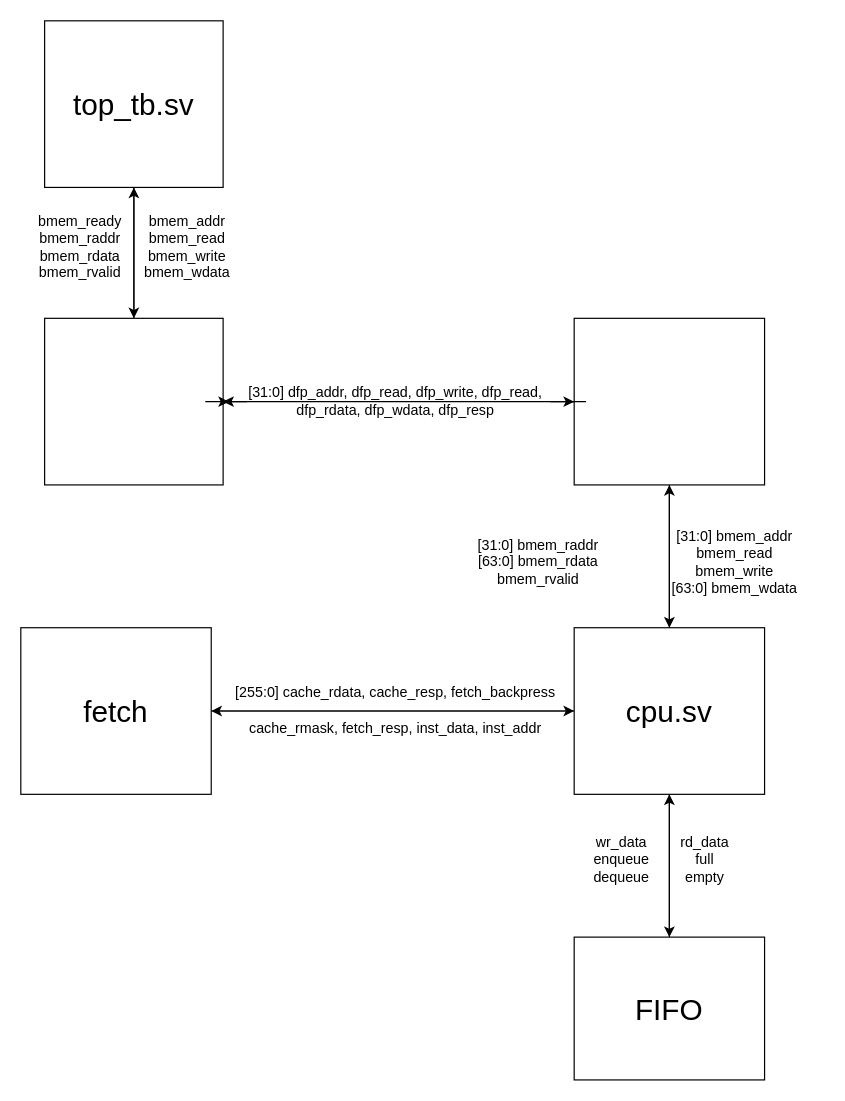
The diagram is 845 pixels wide and 1101 high, and some of its shapes have lost their labels. The centre of each missing label's shape, as x and y in pixels:
"Cache" belongs at (669,401).
"Cacheline Adapter" belongs at (133,401).
